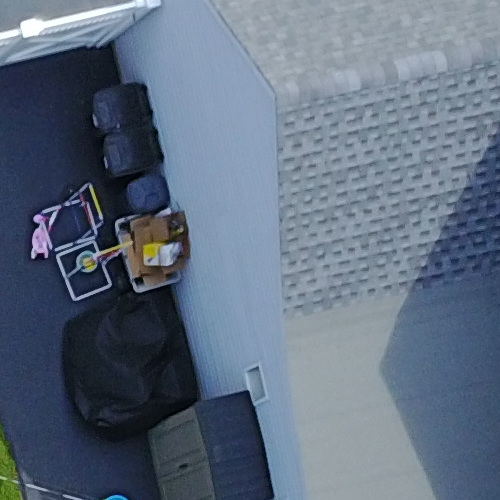trash bin: (73, 63, 161, 144), (93, 114, 175, 175), (116, 160, 179, 217)
